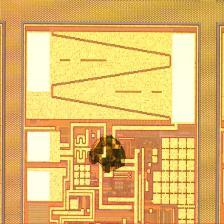PARTICLE: (89, 136, 129, 176)
